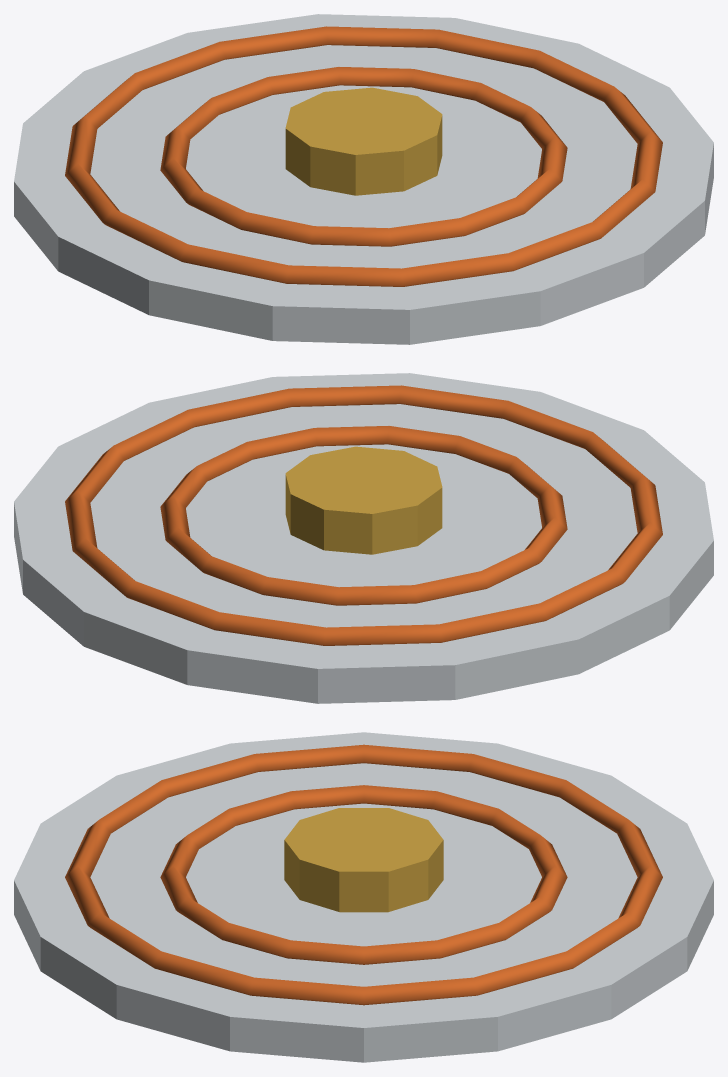
The model's file is Weapon_BossB_HeatShield.fbx.
3 views of the same model, one above another, from view 1: azimuth 30°, elevation 25°; view 2: azimuth 150°, elevation 25°; view 3: azimuth 270°, elevation 25° (orthographic).
Visible parts, largest first — view 1: Weapon_BossB_HeatShield; view 2: Weapon_BossB_HeatShield; view 3: Weapon_BossB_HeatShield.
Boxes of the visible parts, <box> form: Weapon_BossB_HeatShield: <box>14,14,713,344</box>; Weapon_BossB_HeatShield: <box>14,373,713,703</box>; Weapon_BossB_HeatShield: <box>14,732,713,1062</box>.
Size of the model in its own units: 0.22 by 0.046 by 0.22.
